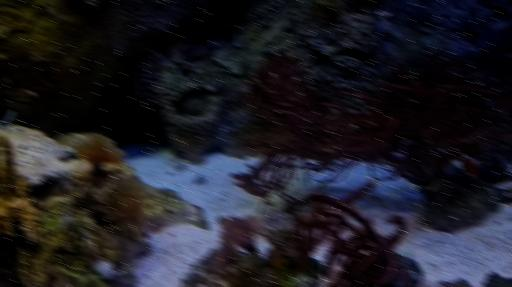Fish: (460, 157, 476, 178)
